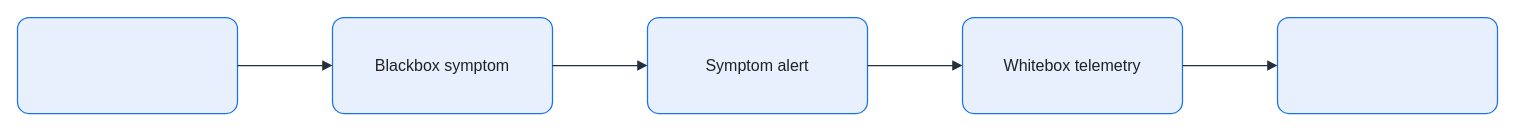
This 1516x132 diagram has some shape labels left out. The centre of each missing label's shape, as x and y in pixels:
"Recovery decision" belongs at point (1387, 65).
"User or synthetic check" belongs at point (127, 65).
